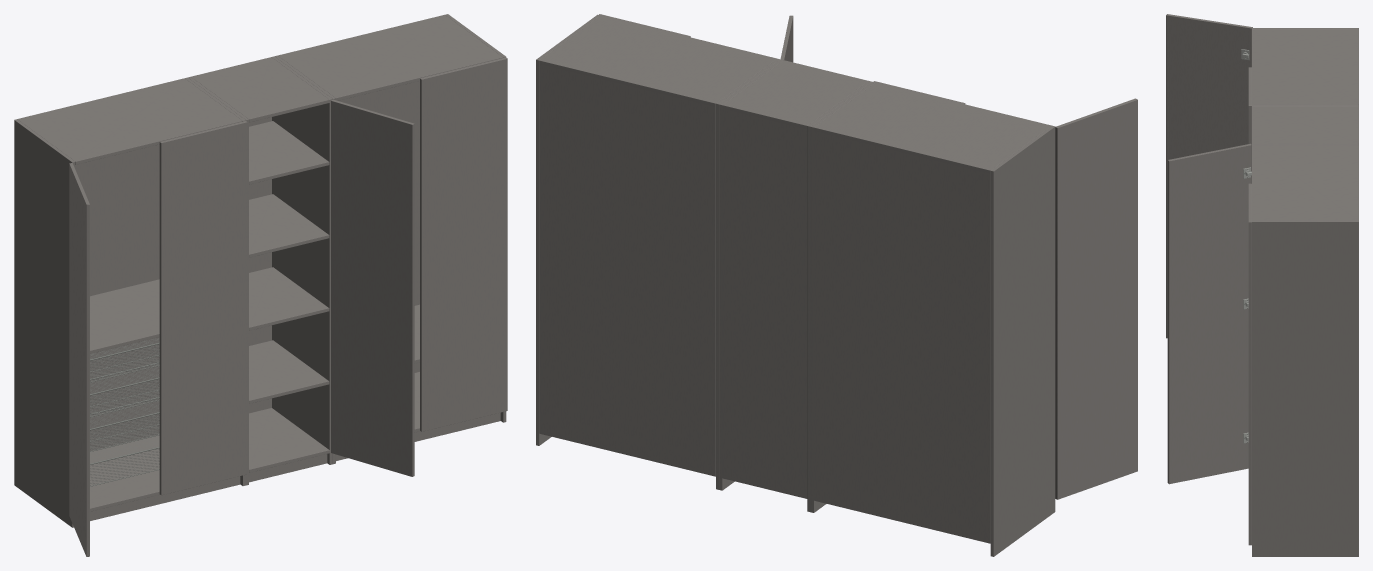
Rendered from black_wardrobe.glb.
3 renders of one model, left to right at view 1: azimuth 30°, elevation 25°; view 2: azimuth 150°, elevation 25°; view 3: azimuth 270°, elevation 25°, orthographic. The views are drawn at different scales.
Visible parts, largest first — view 1: Door_2_plain_laminate_leaf, Door_4_plain_laminate_leaf, Door_3_plain_laminate_leaf, Left_left_carcass_side, Left_back, Center_right_carcass_side, Left_top, Right_top, Door_1_plain_laminate_leaf, Center_top, Left_bottom, Left_shelf_above_baskets (+15 smaller); view 2: Left_back, Right_back, Center_back, Door_1_plain_laminate_leaf, Left_left_carcass_side, Right_top, Left_top, Center_top, Left_right_carcass_side, Center_right_carcass_side, Right_right_carcass_side, Center_left_carcass_side (+1 smaller); view 3: Right_right_carcass_side, Door_3_plain_laminate_leaf, Door_1_plain_laminate_leaf, Right_top, Left_top, Center_top, Door_4_plain_laminate_leaf, Door_2_plain_laminate_leaf.
Boxes of the visible parts, x1,y1,x2,y2 form: Door_2_plain_laminate_leaf: (159, 121, 247, 495); Door_4_plain_laminate_leaf: (420, 57, 507, 431); Door_3_plain_laminate_leaf: (331, 99, 414, 476); Left_left_carcass_side: (14, 119, 75, 527); Left_back: (17, 119, 159, 450); Center_right_carcass_side: (271, 56, 332, 464); Left_top: (18, 78, 242, 164); Right_top: (278, 15, 503, 100); Door_1_plain_laminate_leaf: (69, 163, 89, 556); Center_top: (191, 57, 329, 122); Left_bottom: (90, 435, 159, 511); Left_shelf_above_baskets: (90, 279, 159, 353); Left_back: (814, 127, 990, 543); Right_back: (539, 60, 715, 476); Center_back: (722, 105, 807, 497); Door_1_plain_laminate_leaf: (1055, 98, 1137, 499); Left_left_carcass_side: (990, 125, 1055, 556); Right_top: (539, 15, 776, 106); Left_top: (814, 82, 1051, 173); Center_top: (722, 60, 868, 128); Left_right_carcass_side: (810, 81, 875, 512); Center_right_carcass_side: (719, 59, 783, 490); Right_right_carcass_side: (536, 14, 600, 445); Center_left_carcass_side: (807, 81, 871, 512); Right_right_carcass_side: (1252, 220, 1358, 556); Door_3_plain_laminate_leaf: (1167, 143, 1251, 484); Door_1_plain_laminate_leaf: (1166, 14, 1252, 338); Right_top: (1252, 145, 1358, 220); Left_top: (1252, 29, 1358, 103); Center_top: (1252, 107, 1358, 142); Door_4_plain_laminate_leaf: (1248, 183, 1251, 545); Door_2_plain_laminate_leaf: (1248, 67, 1251, 144).
Size of the model in its own units: 2.69 by 2.01 by 1.05.
5 materials, 2 textured.
